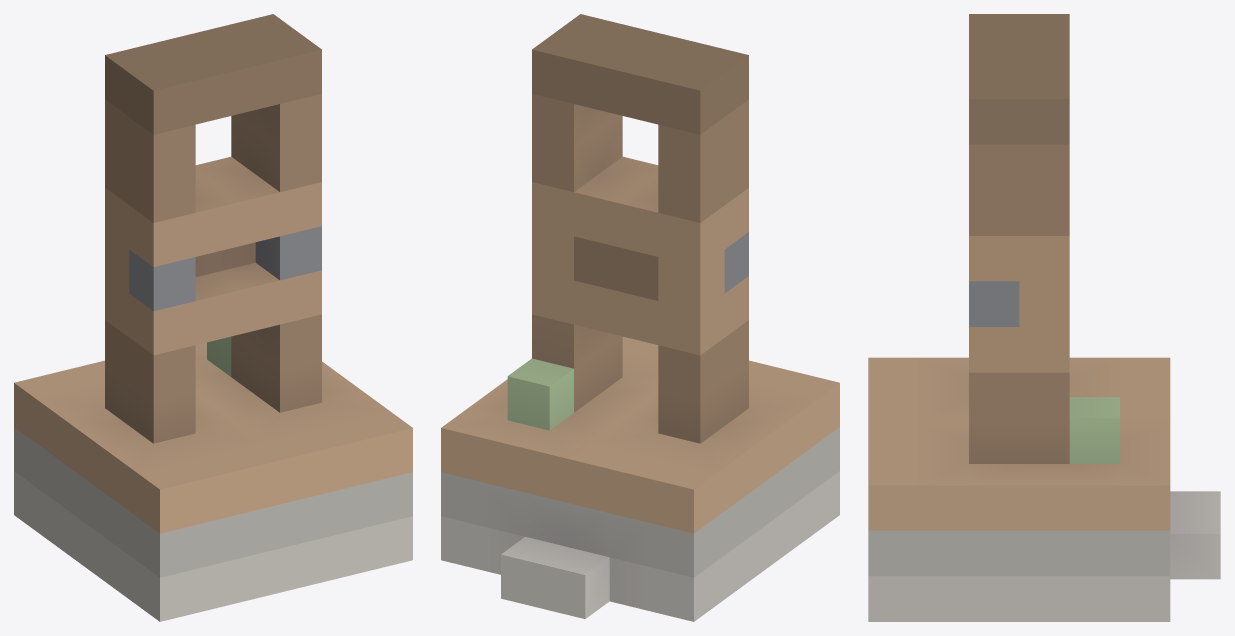
Rendered from pillory.glb.
3 renders of one model, left to right at view 1: azimuth 30°, elevation 25°; view 2: azimuth 150°, elevation 25°; view 3: azimuth 270°, elevation 25°, orthographic. The views are drawn at different scales.
Parts seen in each view (by area): view 1: pillory; view 2: pillory; view 3: pillory.
Part boxes in pixels (x1,y1,x2,y2): pillory: (14, 14, 412, 621); pillory: (441, 14, 839, 621); pillory: (868, 14, 1220, 621).
Size of the model in its own units: 0.75 by 1.38 by 0.875.
